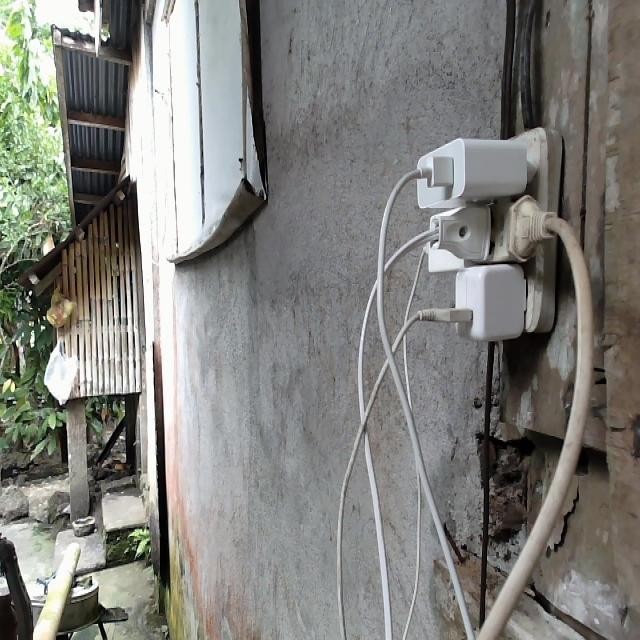-: (387, 121, 566, 343)
